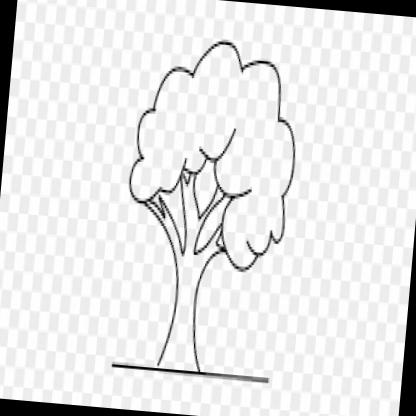branch_cut: (140, 161, 236, 280)
crown_cloud: (120, 24, 307, 280)
root_none: (144, 348, 210, 396)
trunk_straight: (166, 282, 206, 342)
